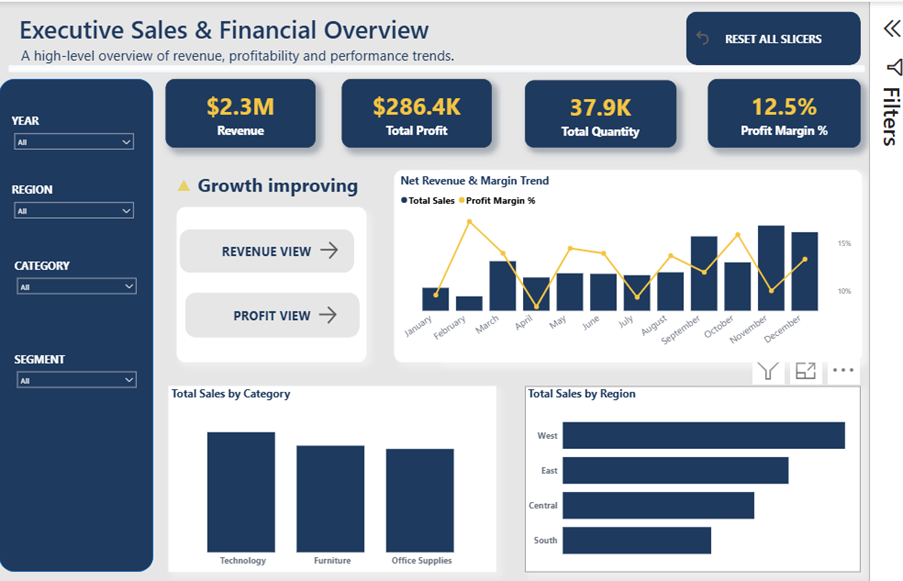

What the dashboard file says about the page in this screenshot:
{"tool":"powerbi","page":{"name":"Executive Page","canvas":[1500,1000],"ordinal":0},"visuals":[{"type":"shape","title":"KPI''S","box":[306.2,353.6,327.5,268.2],"z":0},{"type":"shape","box":[0,132.9,265.8,849.7],"z":1000},{"type":"card","fields":{"Values":["Meaures_Table.Total Sales"]},"box":[287.2,132.9,258.7,118.7],"z":2000},{"type":"textbox","box":[0,0,1499.2,121.3],"z":3000},{"type":"card","fields":{"Values":["Meaures_Table.Total Profit"]},"box":[591,132.9,258.7,118.7],"z":4000},{"type":"card","fields":{"Values":["Meaures_Table.Profit Margin %"]},"box":[1222.3,132.9,263.4,118.7],"z":5000},{"type":"card","fields":{"Values":["Meaures_Table.Total Quantity"]},"box":[906.6,135.3,261.1,116.3],"z":6000},{"type":"lineStackedColumnComboChart","title":"Net Profit & Margin Trend","fields":{"Category":["Dim_Date.Month Name","Dim_Date.Year"],"Y2":["Meaures_Table.Profit Margin %"],"Y":["Meaures_Table.Total Profit"]},"box":[754.7,289.6,733.4,332.3],"z":7000},{"type":"barChart","fields":{"Category":["Dim_customer.Region"],"Y":["Meaures_Table.Total Sales"]},"box":[906.6,662.2,579.1,320.4],"z":8000},{"type":"columnChart","fields":{"Y":["Meaures_Table.Total Sales"],"Category":["Dim_Product.Category"]},"box":[291.9,662.2,565,320.4],"z":9000},{"type":"slicer","title":"YEAR","fields":{"Values":["Dim_Date.Year"]},"box":[16.6,192.2,225.5,118.7],"z":10000},{"type":"slicer","title":"CATEGORY","fields":{"Values":["Dim_Product.Category"]},"box":[21.4,441.5,225.5,118.7],"z":11000},{"type":"slicer","title":"SEGMENT","fields":{"Values":["Dim_Date.Year"]},"box":[21.4,602.8,225.5,118.7],"z":12000},{"type":"slicer","title":"REGION","fields":{"Values":["Dim_customer.Region"]},"box":[16.6,310.9,225.5,118.7],"z":13000},{"type":"shape","box":[1184.3,16.6,301.4,92.6],"z":14000},{"type":"shape","box":[320.4,500.8,301.4,78.3],"z":15000},{"type":"shape","box":[16.6,109.2,1476.3,11.9],"z":16000},{"type":"shape","box":[310.9,391.6,301.4,75.9],"z":17000},{"type":"actionButton","box":[548.3,408.2,99.7,40.3],"z":18000},{"type":"actionButton","box":[545.9,519.8,99.7,40.3],"z":19000},{"type":"lineStackedColumnComboChart","title":"Net Revenue & Margin Trend","fields":{"Category":["Dim_Date.Month Name","Dim_Date.Year"],"Y2":["Meaures_Table.Profit Margin %"],"Y":["Meaures_Table.Total Sales"]},"box":[681.2,289.6,807,332.3],"z":20000},{"type":"actionButton","box":[334.7,389.2,263.4,78.3],"z":21000},{"type":"actionButton","box":[339.4,505.5,258.7,83.1],"z":22000},{"type":"actionButton","box":[1236.6,42.7,199.4,45.1],"z":23000},{"type":"card","fields":{"Values":["Meaures_Table.Indicator Arrow"]},"box":[291.9,261.1,52.2,109.2],"z":24000},{"type":"card","fields":{"Values":["Meaures_Table.Indicator Text"]},"box":[313.3,261.1,334.7,109.2],"z":25000},{"type":"actionButton","box":[1196.2,45.1,99.7,33.2],"z":26000}]}

Visuals, with their boxes on the page's 1500x1000 design canvas (x1, y1, x2, y2). These are canvas units, not pixel positions in the 903x581 screenshot, which may show the page scaled, cropped or inside an application window:
"KPI''S" shape: (306,354,634,622)
shape: (0,133,266,983)
card - Meaures_Table.Total Sales: (287,133,546,252)
textbox: (0,0,1499,121)
card - Meaures_Table.Total Profit: (591,133,850,252)
card - Meaures_Table.Profit Margin %: (1222,133,1486,252)
card - Meaures_Table.Total Quantity: (907,135,1168,252)
"Net Profit & Margin Trend" lineStackedColumnComboChart: (755,290,1488,622)
barChart - Dim_customer.Region x Meaures_Table.Total Sales: (907,662,1486,983)
columnChart - Meaures_Table.Total Sales x Dim_Product.Category: (292,662,857,983)
"YEAR" slicer: (17,192,242,311)
"CATEGORY" slicer: (21,442,247,560)
"SEGMENT" slicer: (21,603,247,722)
"REGION" slicer: (17,311,242,430)
shape: (1184,17,1486,109)
shape: (320,501,622,579)
shape: (17,109,1493,121)
shape: (311,392,612,468)
actionButton: (548,408,648,448)
actionButton: (546,520,646,560)
"Net Revenue & Margin Trend" lineStackedColumnComboChart: (681,290,1488,622)
actionButton: (335,389,598,468)
actionButton: (339,506,598,589)
actionButton: (1237,43,1436,88)
card - Meaures_Table.Indicator Arrow: (292,261,344,370)
card - Meaures_Table.Indicator Text: (313,261,648,370)
actionButton: (1196,45,1296,78)
